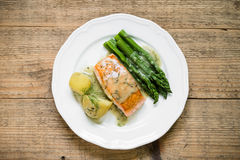boiled potatoes: (71, 74, 102, 118)
